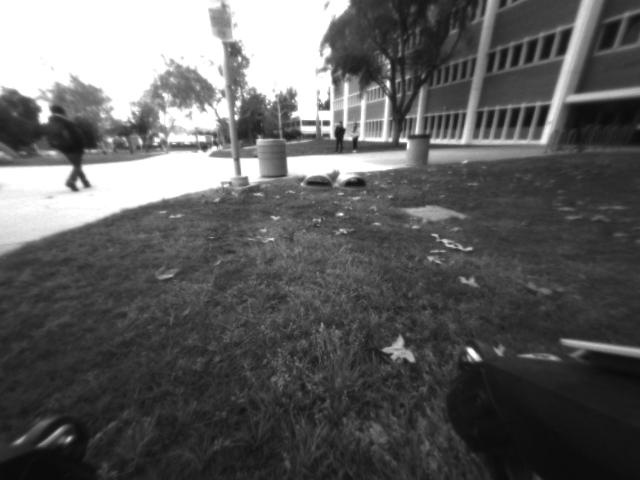trashcan: (256, 136, 294, 180), (402, 131, 431, 171)
